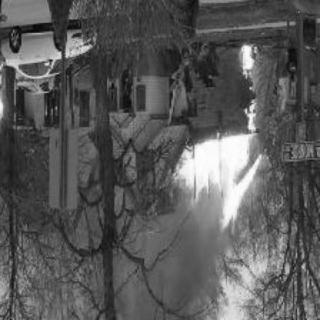Fire: (179, 136, 262, 222), (240, 44, 258, 78), (246, 100, 260, 132), (3, 92, 6, 124)
Smoke: (158, 224, 232, 302)
other: (43, 99, 63, 117)
